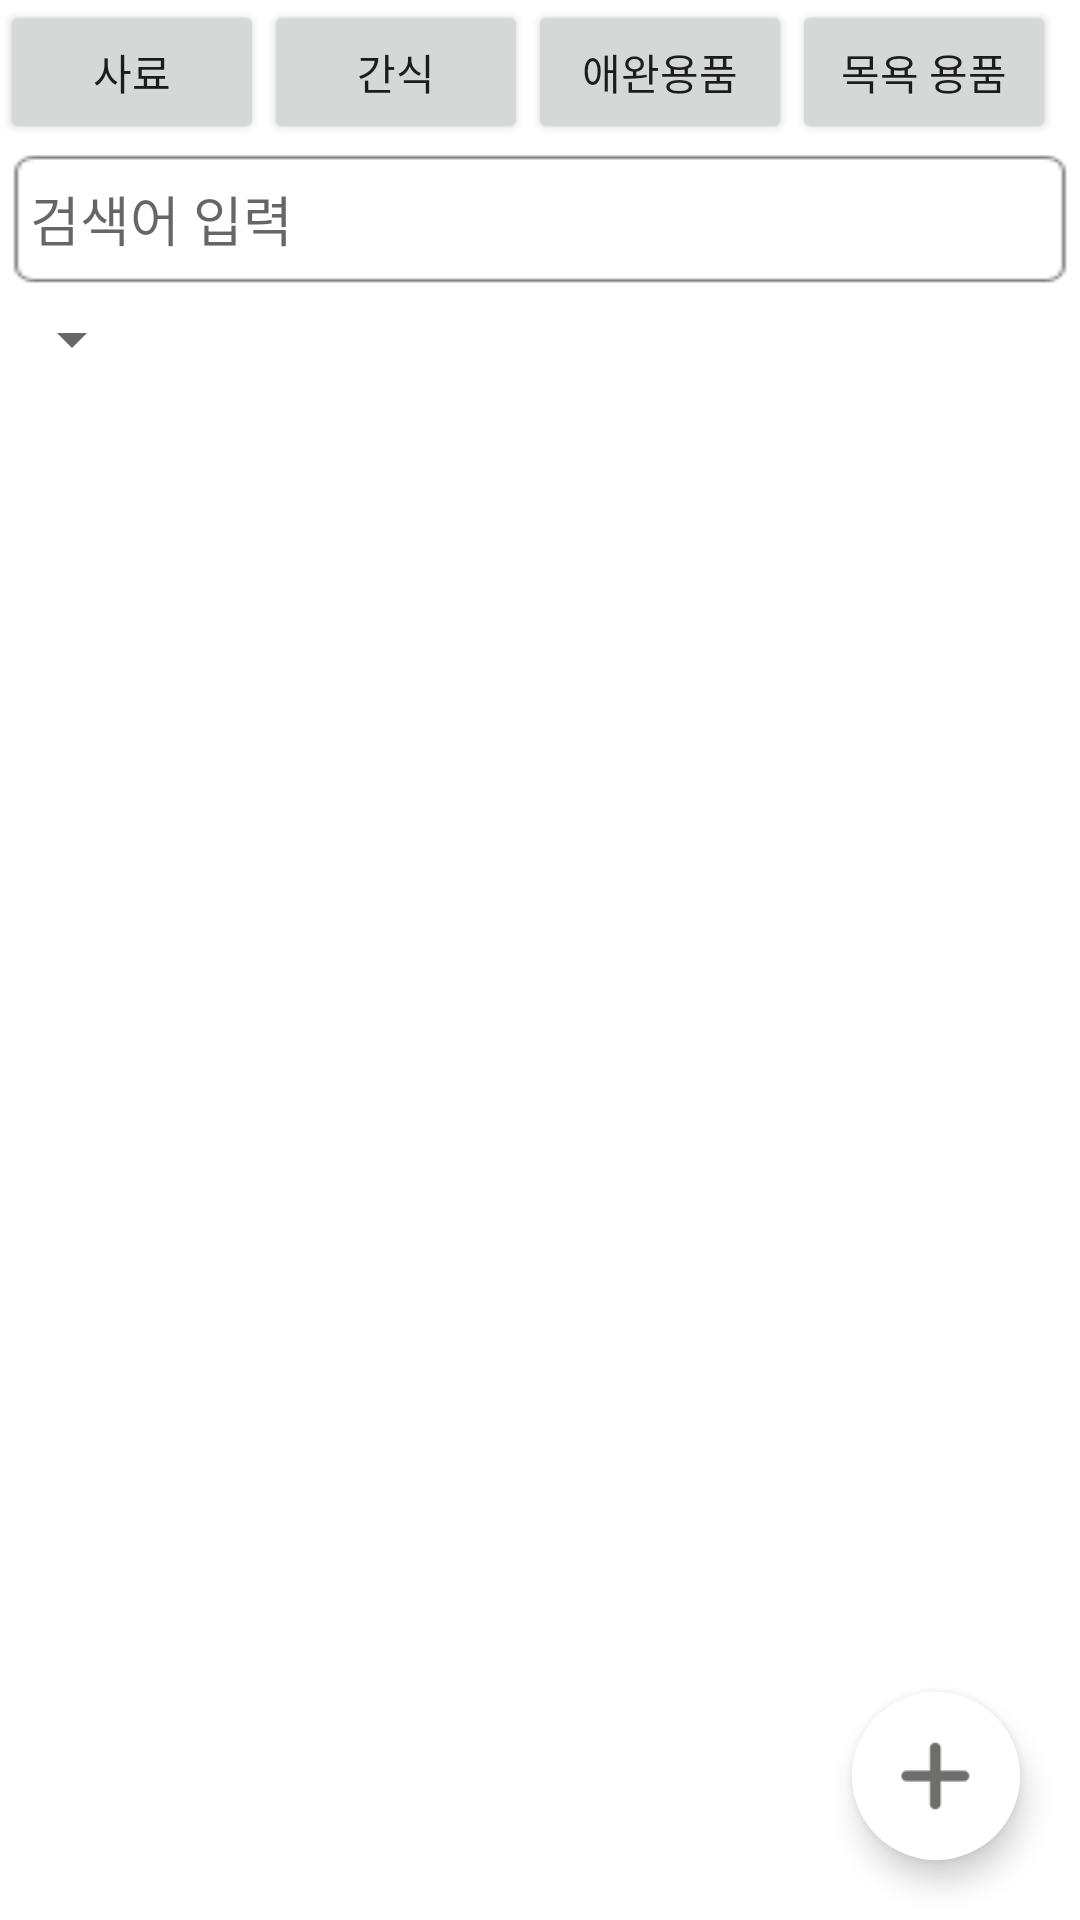

Point at icon controls on the screen. Image size 1080w x 1920h, points as point (x, y).
plusbtn: point (913, 1776)
